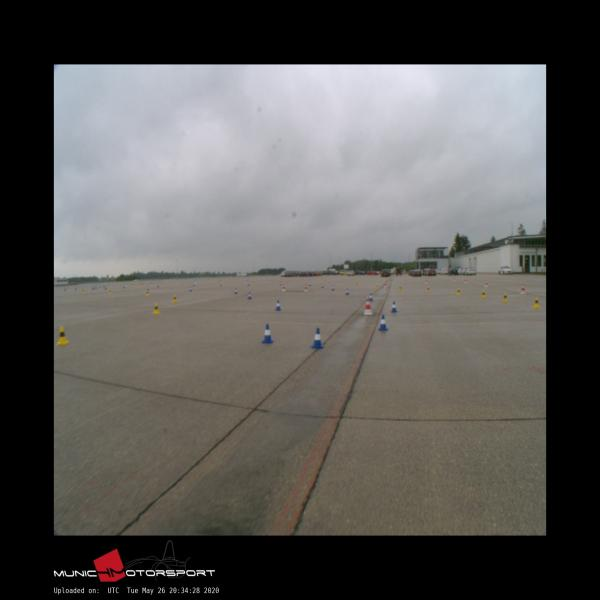blue_cone: (311, 328, 323, 347), (262, 324, 273, 343), (378, 315, 387, 330), (390, 302, 398, 312), (275, 301, 281, 310), (369, 293, 373, 301), (248, 292, 252, 299), (234, 288, 238, 294), (346, 288, 350, 294)
yellow_cone: (56, 326, 68, 345), (152, 302, 160, 314), (534, 297, 540, 308), (502, 293, 508, 302), (481, 290, 486, 298), (173, 294, 177, 302), (456, 288, 460, 295), (426, 287, 430, 292), (399, 285, 402, 291)
